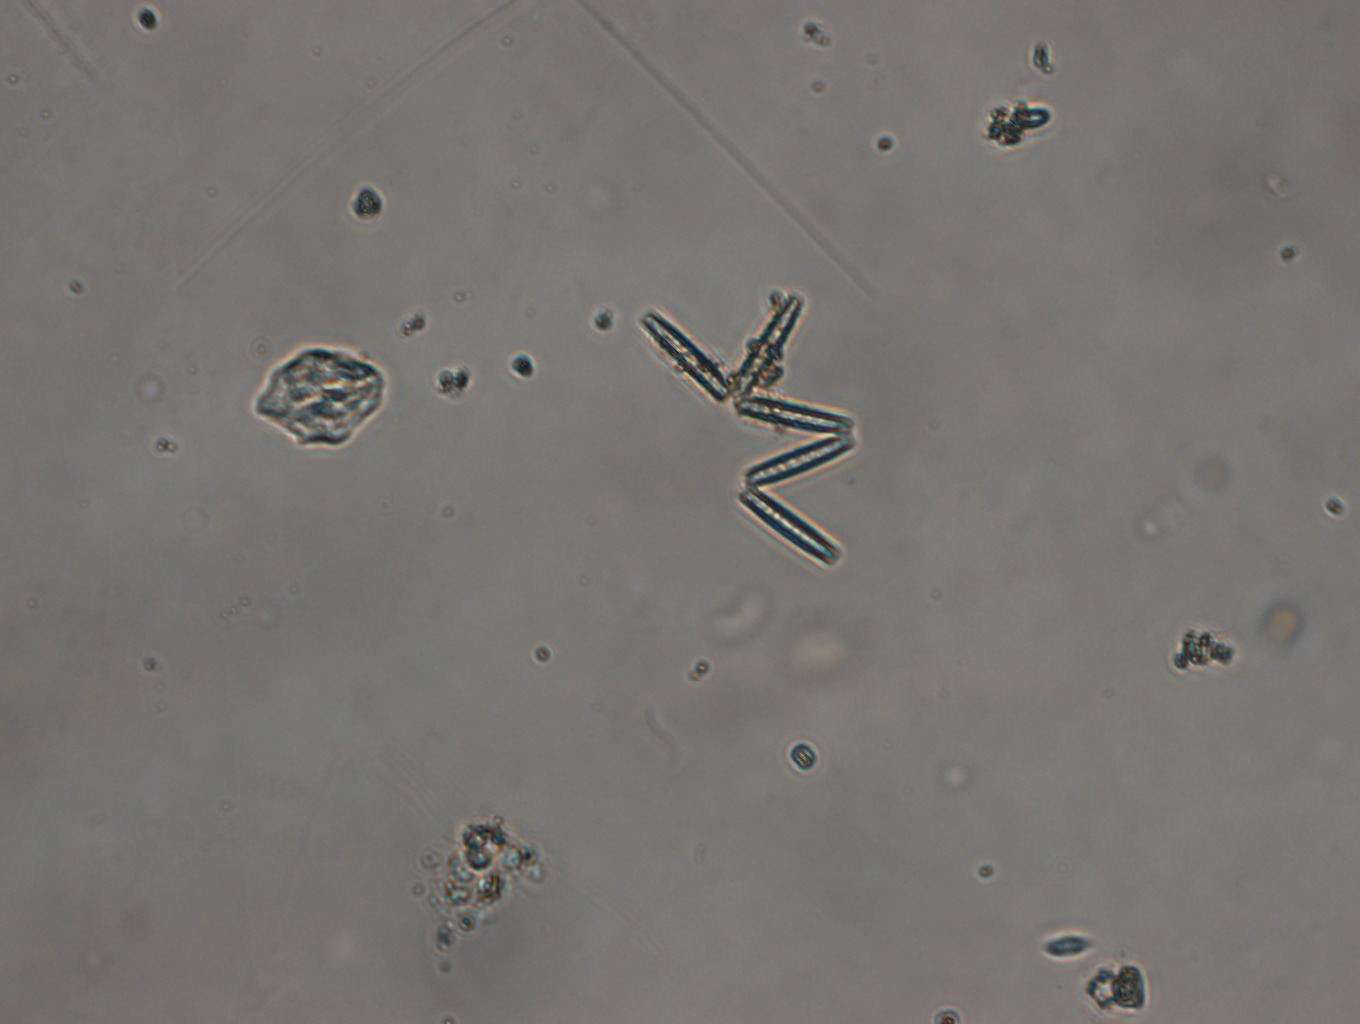thalassionema nitzschioides: (636, 288, 872, 573)
